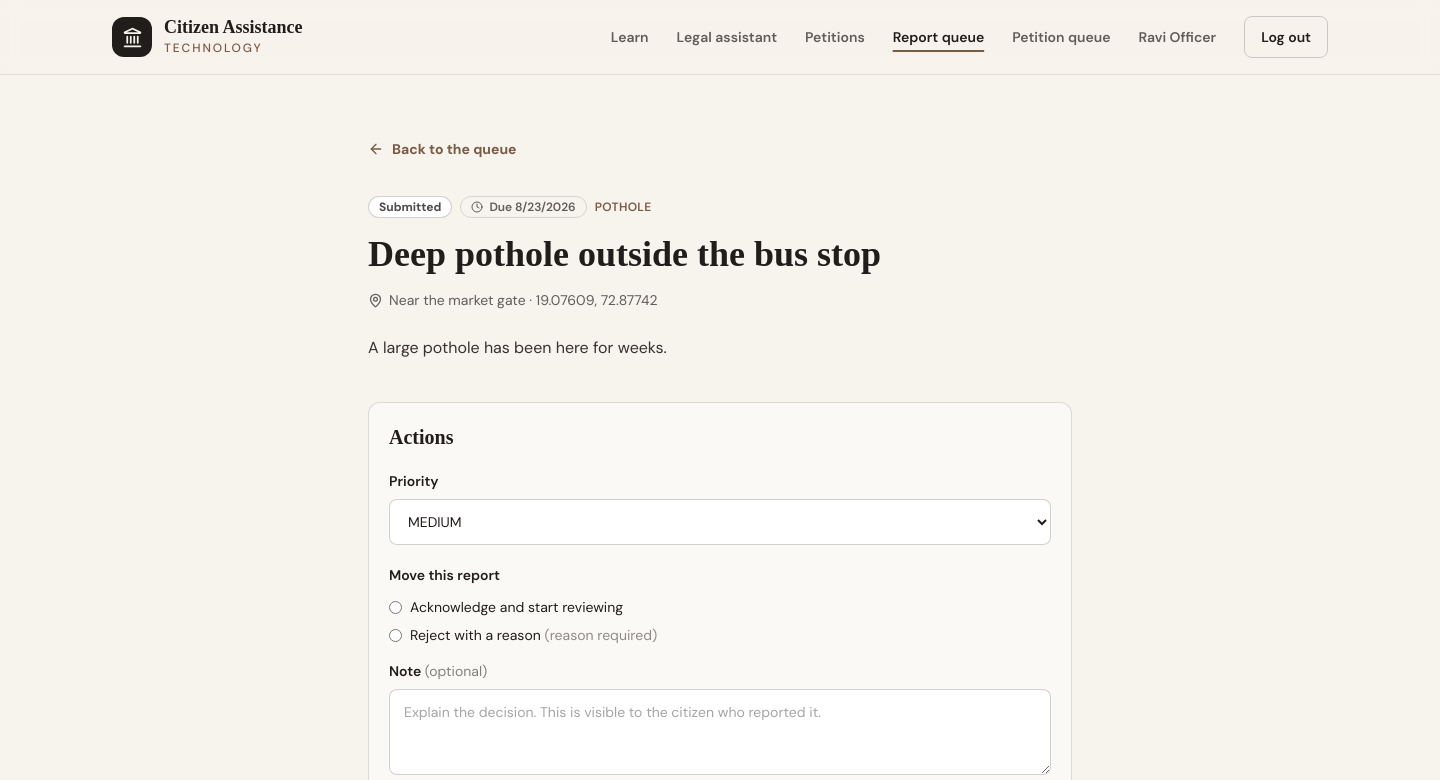
Scenario: AuthorityReportPage › surfaces a rejected transition from the API
Expected: the heading "Deep pothole outside the bus stop" is shown, [368, 234, 881, 274]
Click the radio button labelled "Acknowledge and start reviewing" at (396, 608), box [389, 601, 402, 614]
(page scrolled)
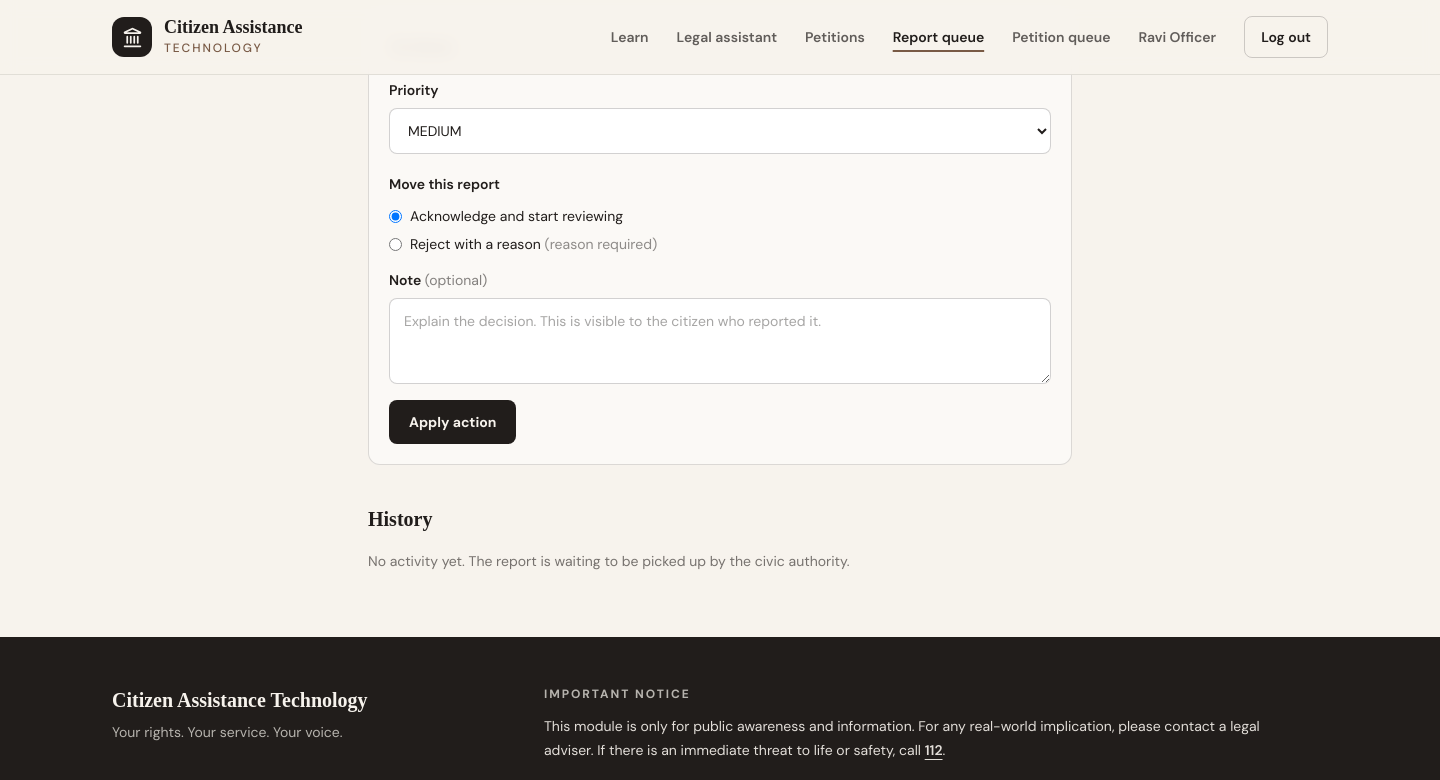
Click the button "Apply action" at (453, 422), box [389, 400, 516, 444]
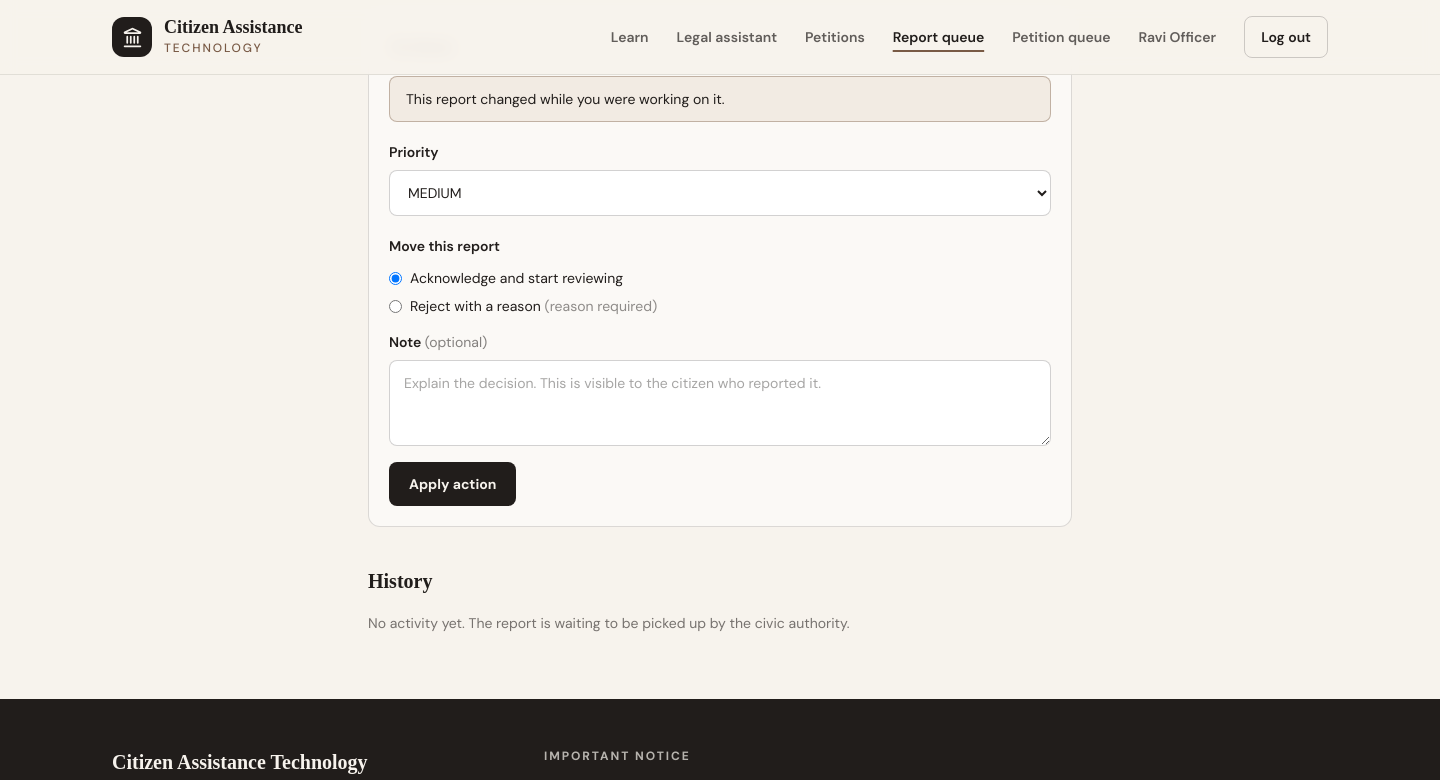
Now the message reads "This report changed while you were working on it.", box [406, 90, 725, 108]
